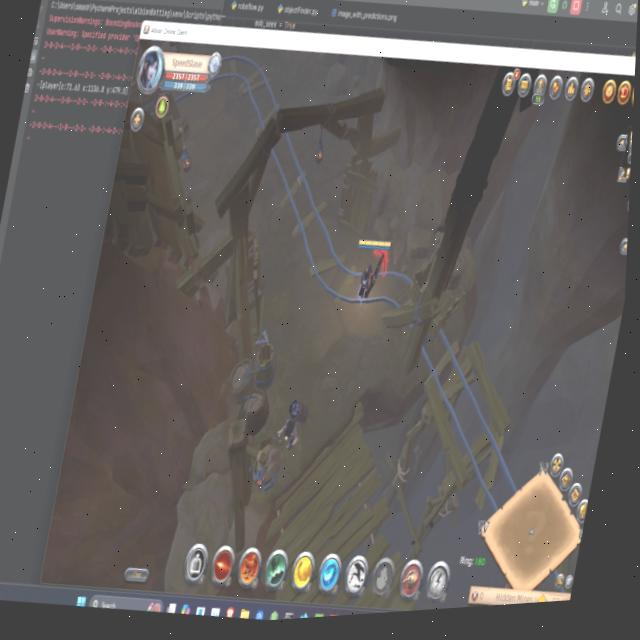red: (345, 231, 398, 308), (274, 387, 313, 453)
